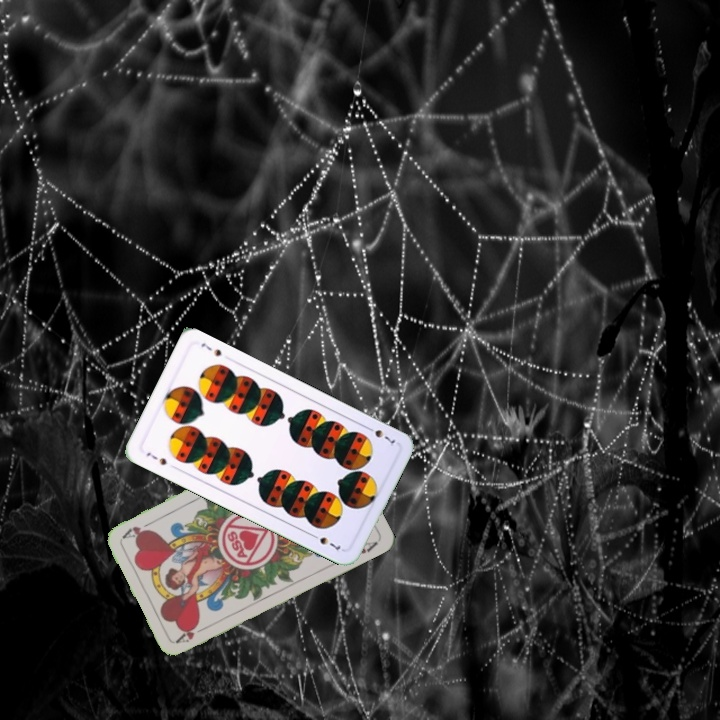HA: (173, 621, 211, 646)
S7: (362, 422, 398, 449), (142, 448, 169, 468)
